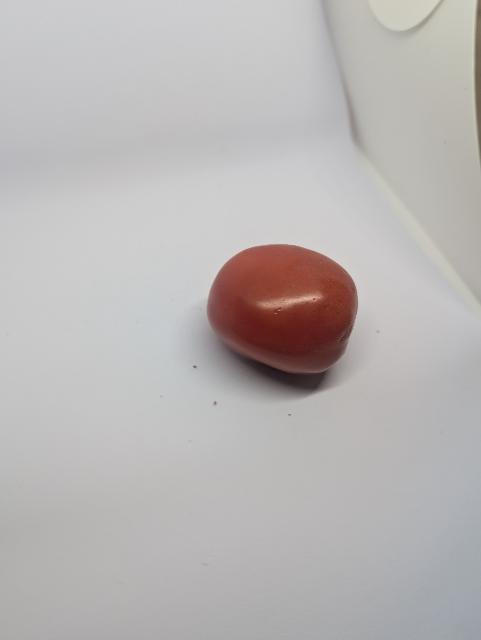red: (204, 243, 364, 379)
